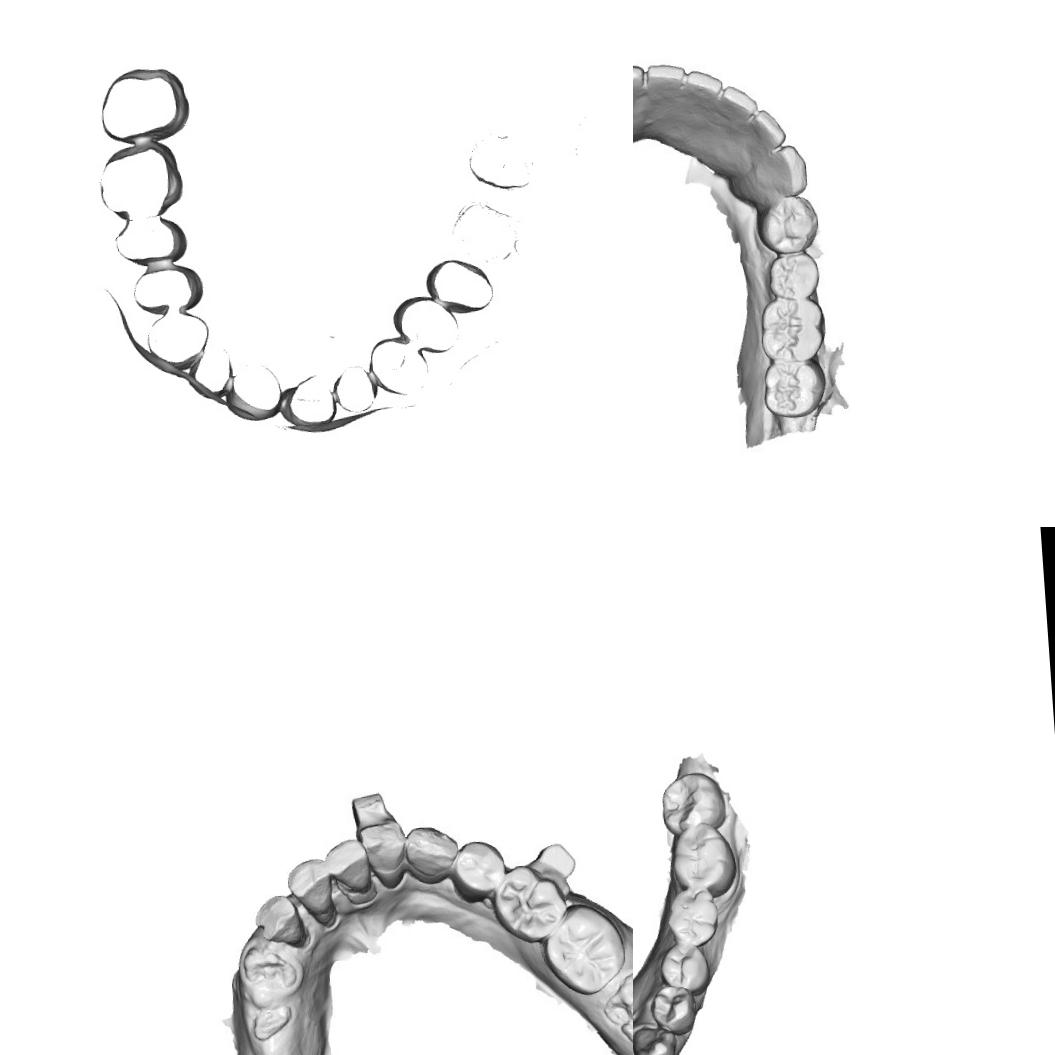canine: (744, 141, 811, 207), (406, 822, 456, 876), (633, 1022, 678, 1055), (633, 64, 650, 136)
incisor: (707, 81, 759, 164), (356, 807, 410, 884), (646, 62, 690, 148), (681, 67, 724, 152), (289, 858, 340, 929), (733, 112, 781, 185), (257, 892, 306, 950), (328, 836, 370, 898)
molar: (542, 905, 628, 992), (666, 824, 738, 899), (656, 768, 728, 834), (762, 295, 826, 362), (764, 357, 826, 418), (664, 887, 721, 946), (606, 967, 633, 1043)
premolar: (496, 866, 570, 938), (656, 940, 712, 996), (646, 981, 698, 1037), (768, 250, 819, 300), (766, 202, 818, 250), (454, 842, 501, 894)
